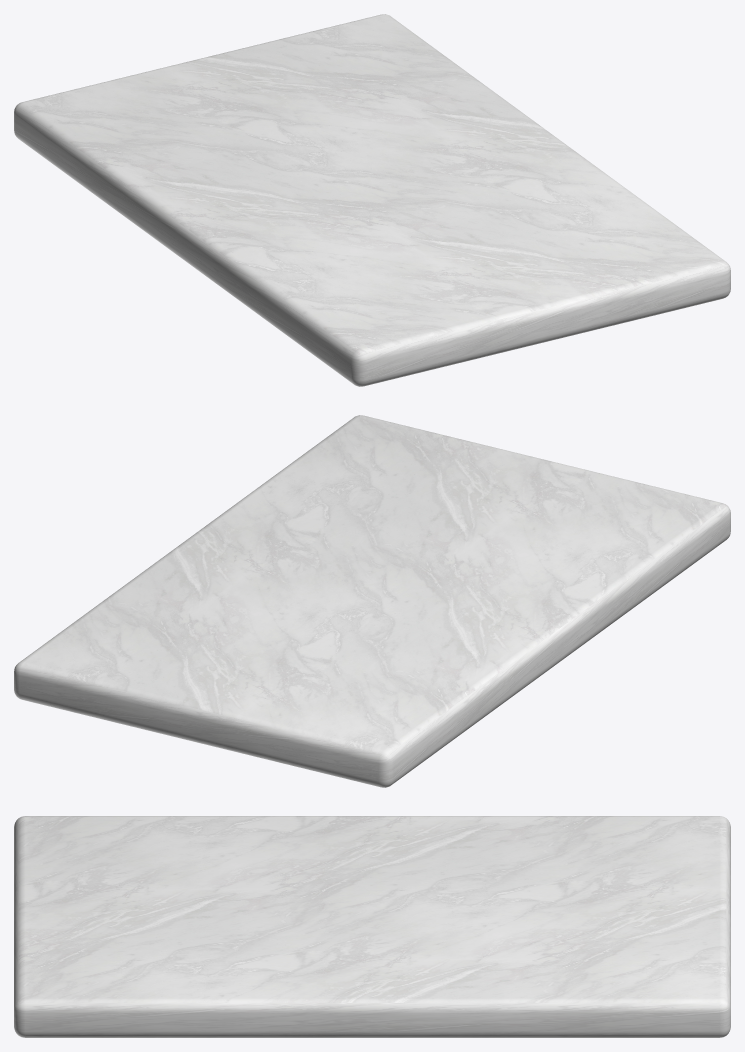
File: counterTop.fbx
3 views of the same model, one above another, from view 1: azimuth 30°, elevation 25°; view 2: azimuth 150°, elevation 25°; view 3: azimuth 270°, elevation 25° (orthographic). The views are drawn at different scales.
Visible parts, largest first — view 1: Cube; view 2: Cube; view 3: Cube.
Boxes of the visible parts, left/top/right/bottom form: Cube: left=14, top=14, right=730, bottom=386; Cube: left=14, top=415, right=730, bottom=787; Cube: left=14, top=816, right=730, bottom=1037.
Bounding box in the file's own units: 4028 × 381 × 6394.
